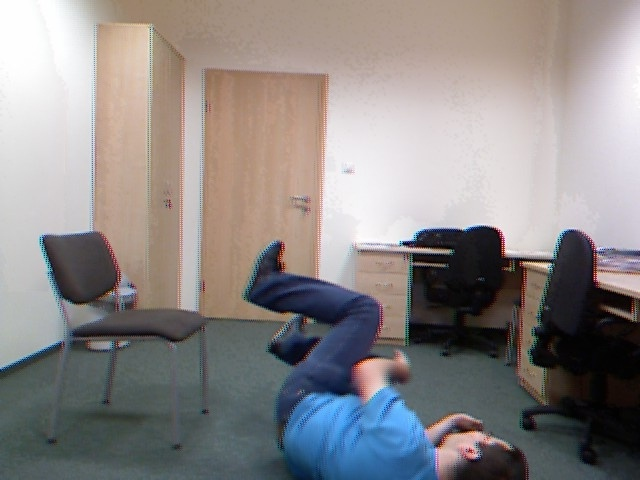fall: (241, 241, 539, 480)
